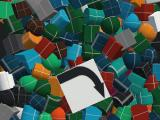Right: (56, 59, 110, 114)
